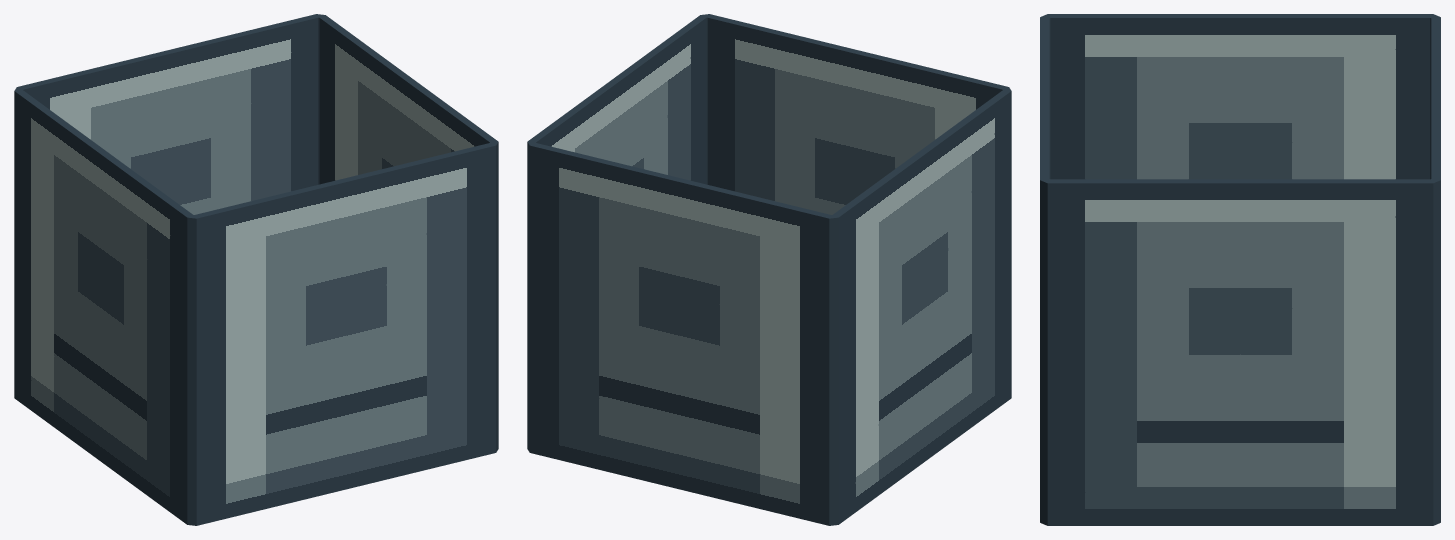
Rendered from wear.gltf.
3 renders of one model, left to right at view 1: azimuth 30°, elevation 25°; view 2: azimuth 150°, elevation 25°; view 3: azimuth 270°, elevation 25°, orthographic. The views are drawn at different scales.
Visible parts, largest first — view 1: Armor_Metal_Cylinder.049; view 2: Armor_Metal_Cylinder.049; view 3: Armor_Metal_Cylinder.049.
Boxes of the visible parts, left/top/right/bottom form: Armor_Metal_Cylinder.049: left=14, top=14, right=498, bottom=525; Armor_Metal_Cylinder.049: left=527, top=14, right=1011, bottom=525; Armor_Metal_Cylinder.049: left=1040, top=14, right=1440, bottom=525.
Size of the model in its own units: 2.12 by 2 by 2.12.
1 material, 1 textured.
